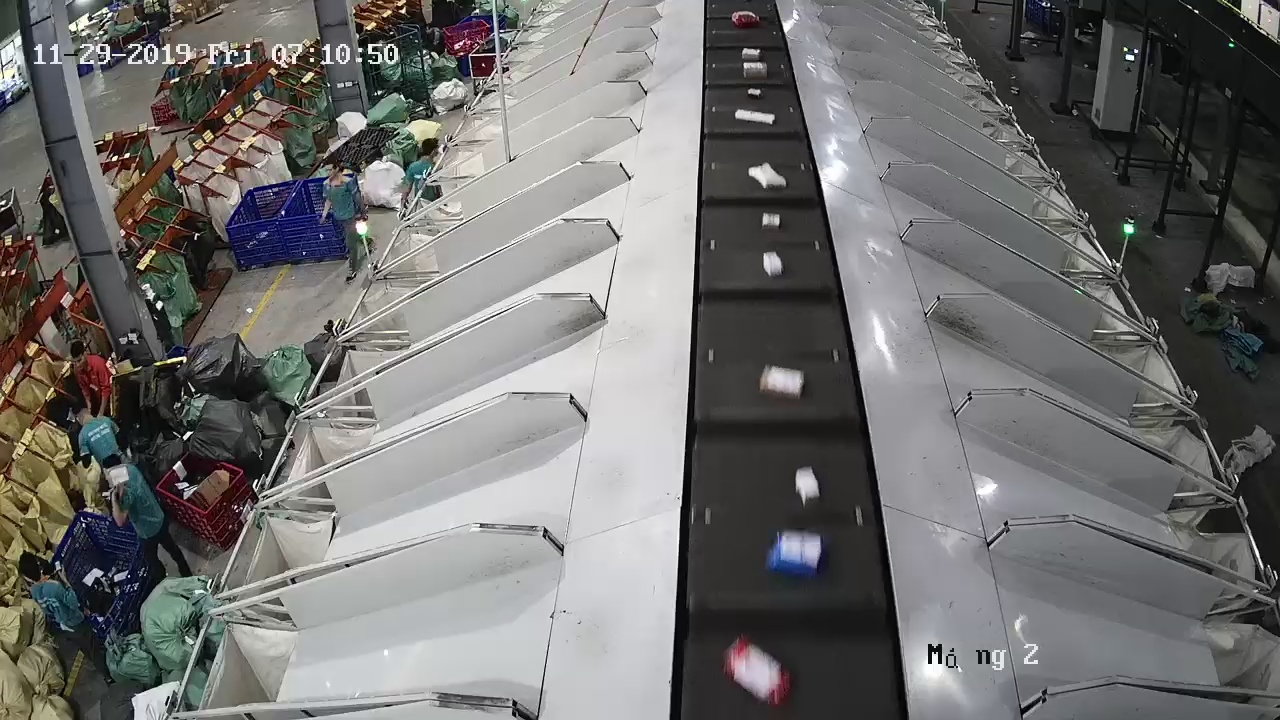parcel: (722, 635, 792, 709), (765, 528, 824, 578), (758, 364, 805, 401), (748, 162, 788, 191), (795, 466, 820, 500), (762, 251, 784, 278), (761, 213, 780, 231)
